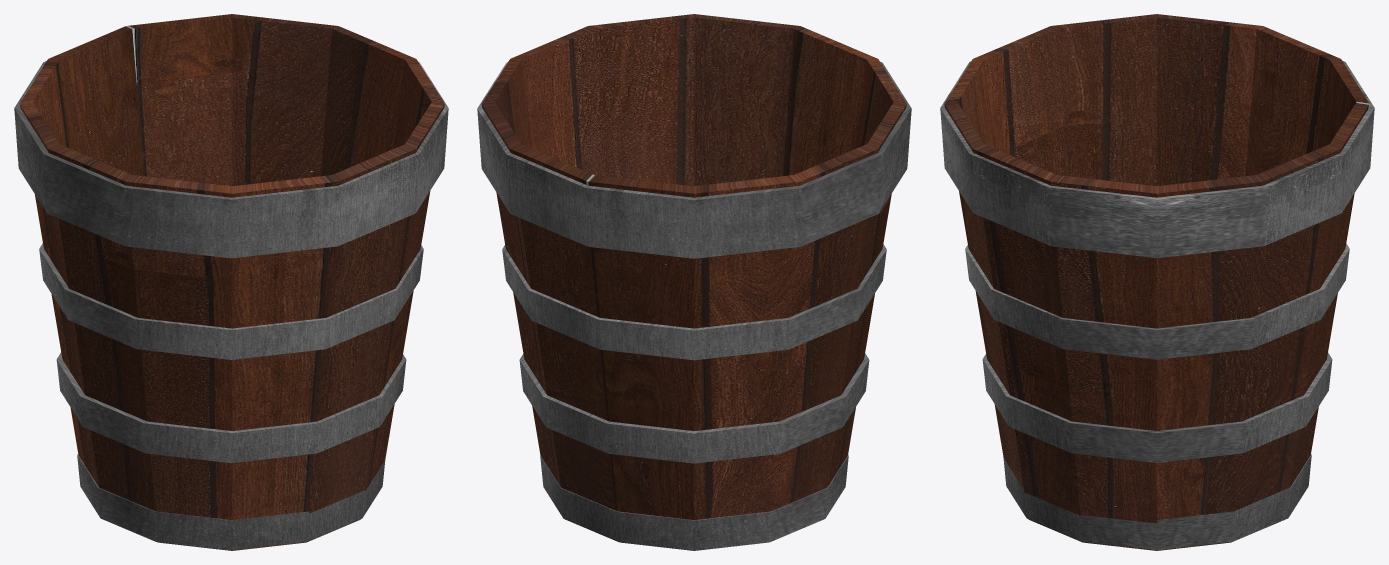
The model's file is Bucket.fbx.
3 views of the same model, side by side, from view 1: azimuth 30°, elevation 25°; view 2: azimuth 150°, elevation 25°; view 3: azimuth 270°, elevation 25° (orthographic).
Parts seen in each view (by area): view 1: madeira; view 2: madeira; view 3: madeira.
Boxes of the visible parts, x1,y1,x2,y2 form: madeira: (14,14,448,550); madeira: (477,14,911,550); madeira: (940,14,1374,550).
Size of the model in its own units: 53 by 52.51 by 53.
Materials: 2 (2 with a texture image).
